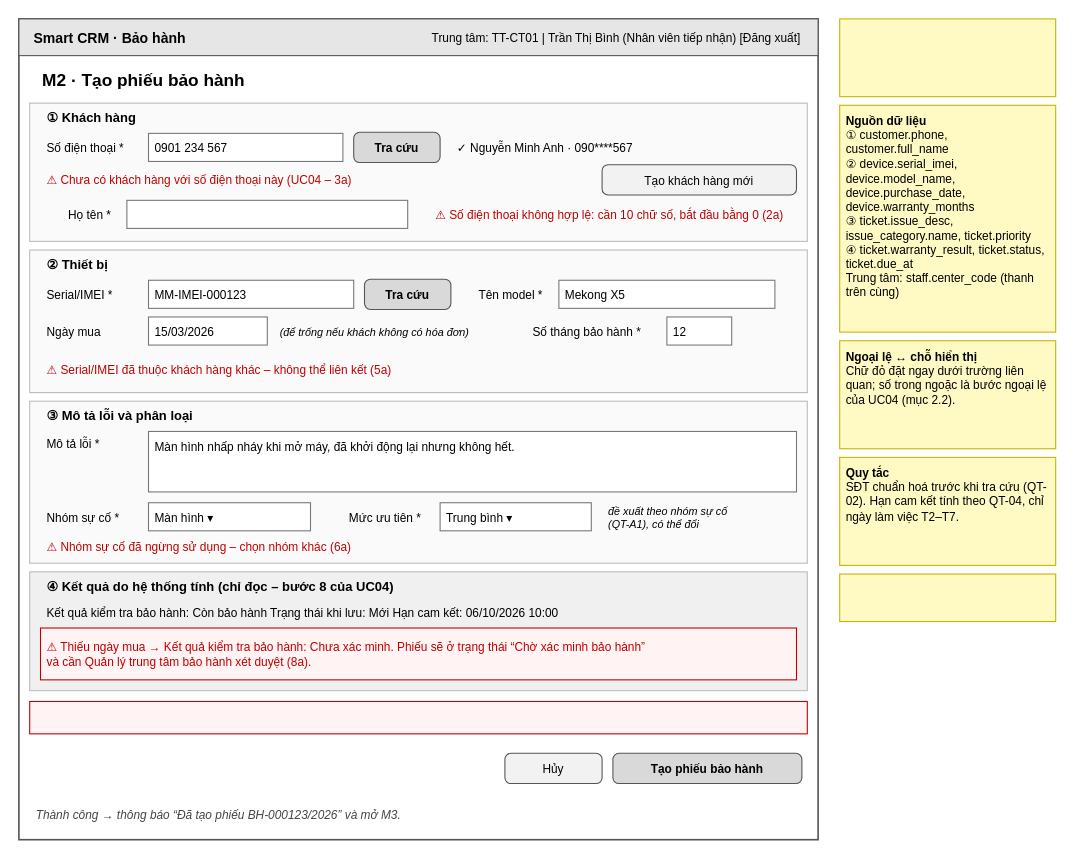
Image size: 1076x860. Some labels were removed from this diagram. The shapes that lost their labels are listed below. From the top down, each one's centre as x and y in pixels, then its label:
At point (947, 57): "Truy vết UC04 (gồm UC01, UC02, UC03, UC05) · FR1–FR6 · US1–US5".
At point (267, 213): "(hiện khi tạo mới – UC02)".
At point (947, 597): "Nhãn trường dùng đúng Bảng thuật ngữ (mục 1.1).".
At point (418, 717): "⚠ Thiếu dữ liệu bắt buộc: Mô tả lỗi. Phiếu chưa được tạo (10a).".
